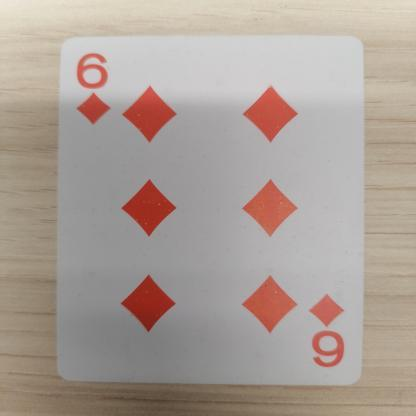6D: (66, 46, 134, 136), (300, 282, 355, 380)
